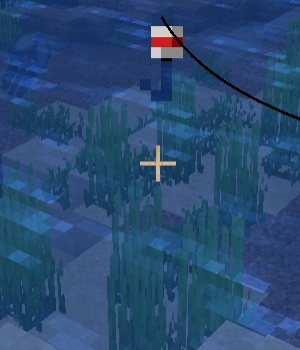up: (136, 24, 189, 103)
